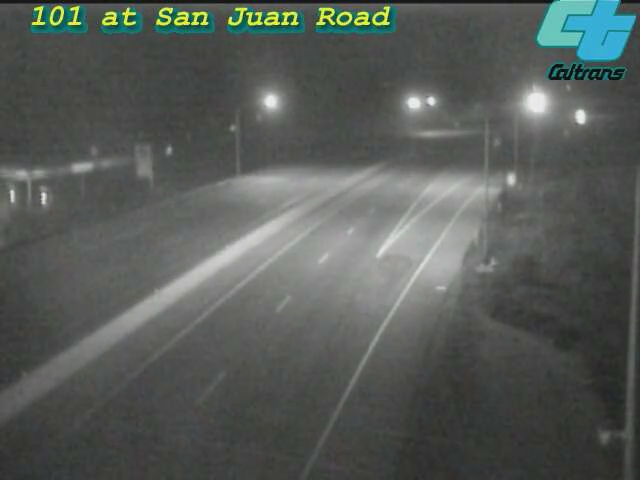vehicle: (553, 93, 603, 143), (510, 78, 560, 128)
